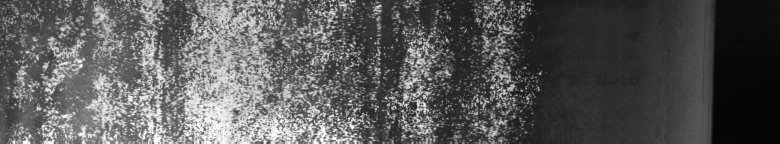kb: (4, 4, 547, 136)
